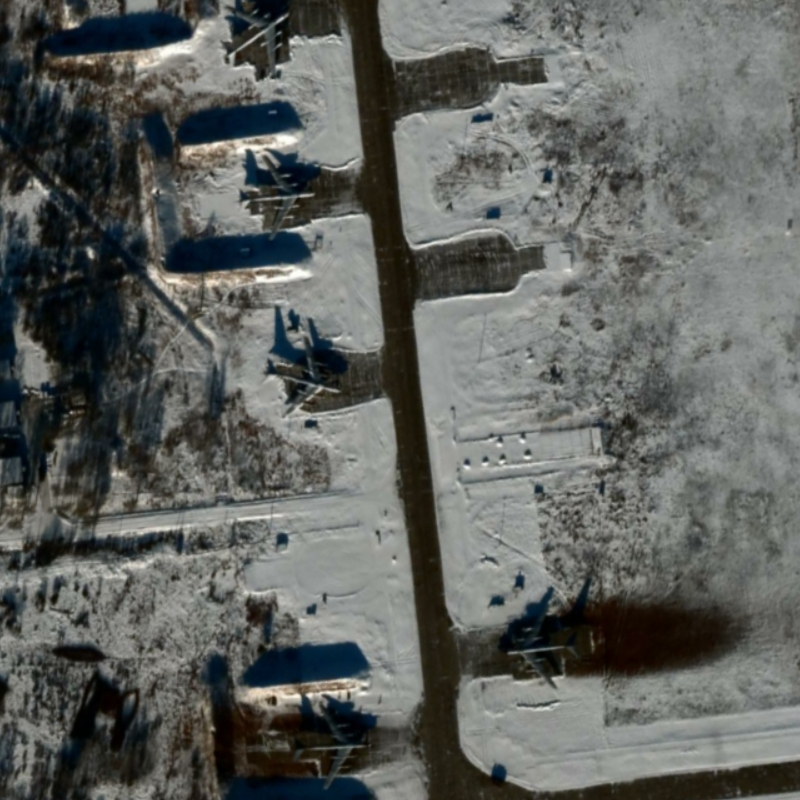A17: (290, 702, 375, 792), (235, 153, 318, 242), (260, 334, 344, 420), (503, 609, 580, 691), (217, 8, 293, 80)
